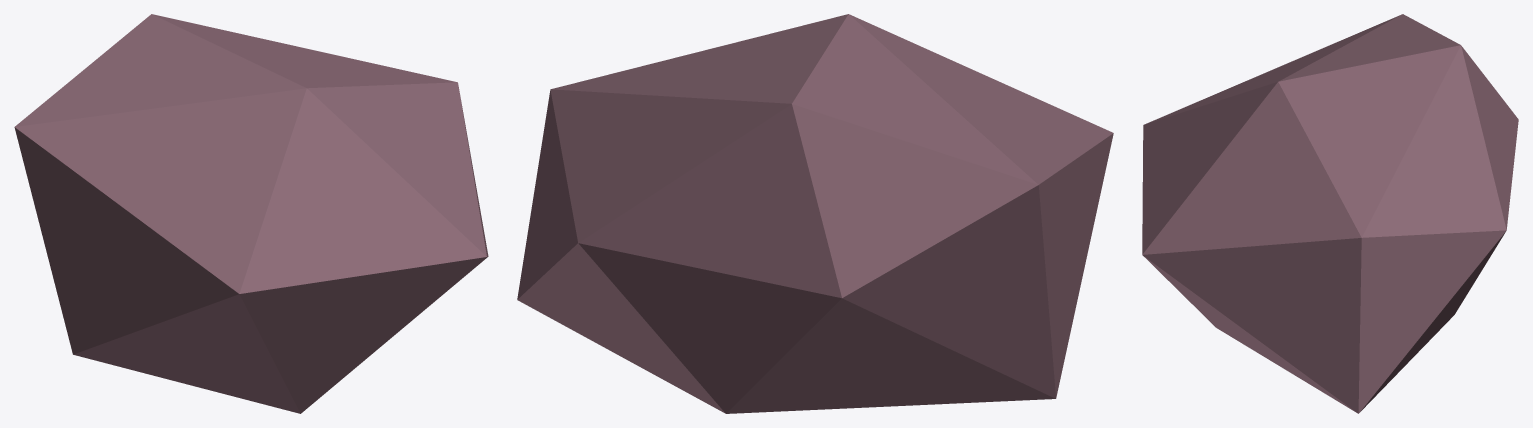
File: rock.glb
The picture shows the model from 3 angles, left to right: view 1: azimuth 30°, elevation 25°; view 2: azimuth 150°, elevation 25°; view 3: azimuth 270°, elevation 25°; orthographic projection. The views are drawn at different scales.
Visible parts, largest first — view 1: Rock; view 2: Rock; view 3: Rock.
Boxes of the visible parts, <box> form: Rock: <box>14,14,488,413</box>; Rock: <box>517,14,1113,413</box>; Rock: <box>1142,14,1518,413</box>.
Bounding box in the file's own units: 0.8938 × 0.5787 × 0.7143.
